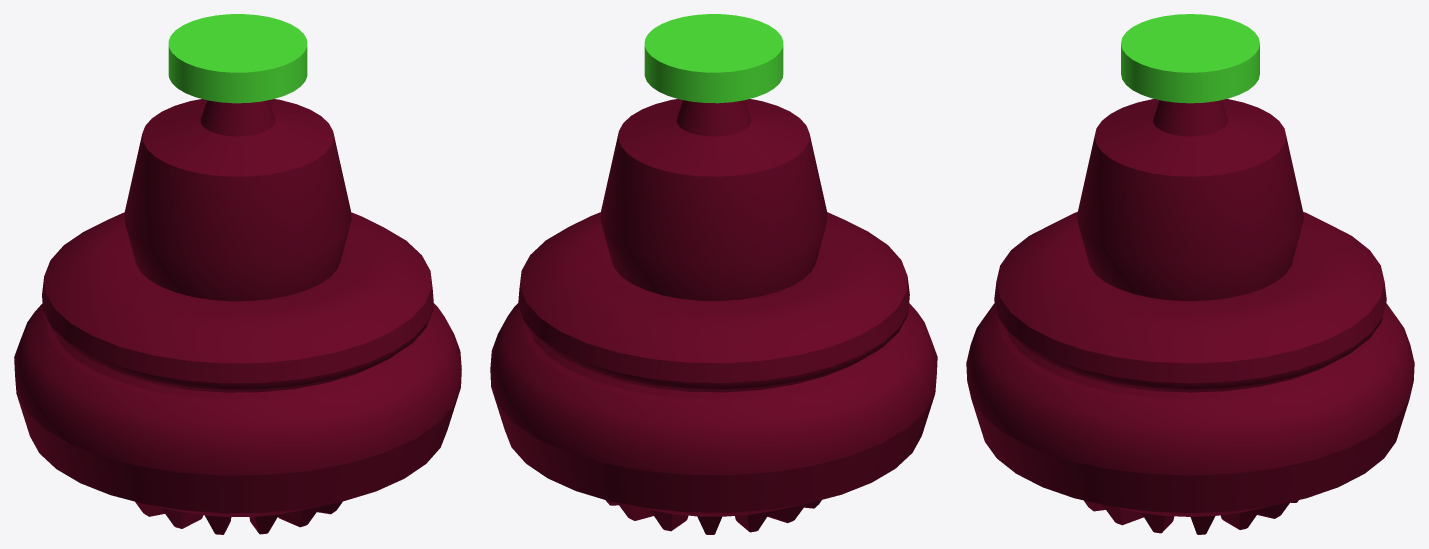
Rendered from bottle41.glb.
The picture shows the model from 3 angles, left to right: view 1: azimuth 30°, elevation 25°; view 2: azimuth 150°, elevation 25°; view 3: azimuth 270°, elevation 25°; orthographic projection.
Parts seen in each view (by area): view 1: Bottle41; view 2: Bottle41; view 3: Bottle41.
Part boxes in pixels (<box>): Bottle41: <box>14,14,461,534</box>; Bottle41: <box>490,14,937,534</box>; Bottle41: <box>966,14,1414,534</box>.
Size of the model in its own units: 2.19 by 2.41 by 2.19.
